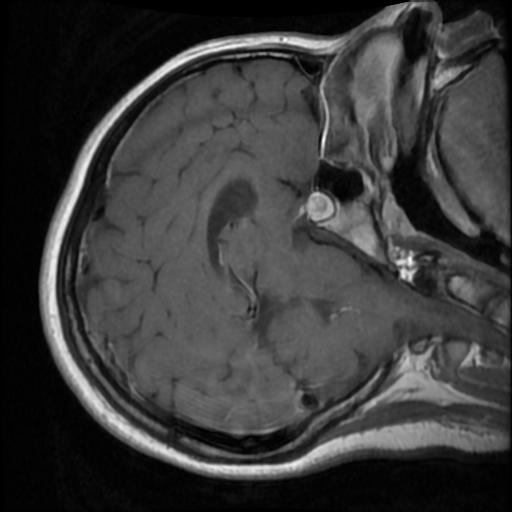pituitary tumour: (305, 191, 335, 222)
